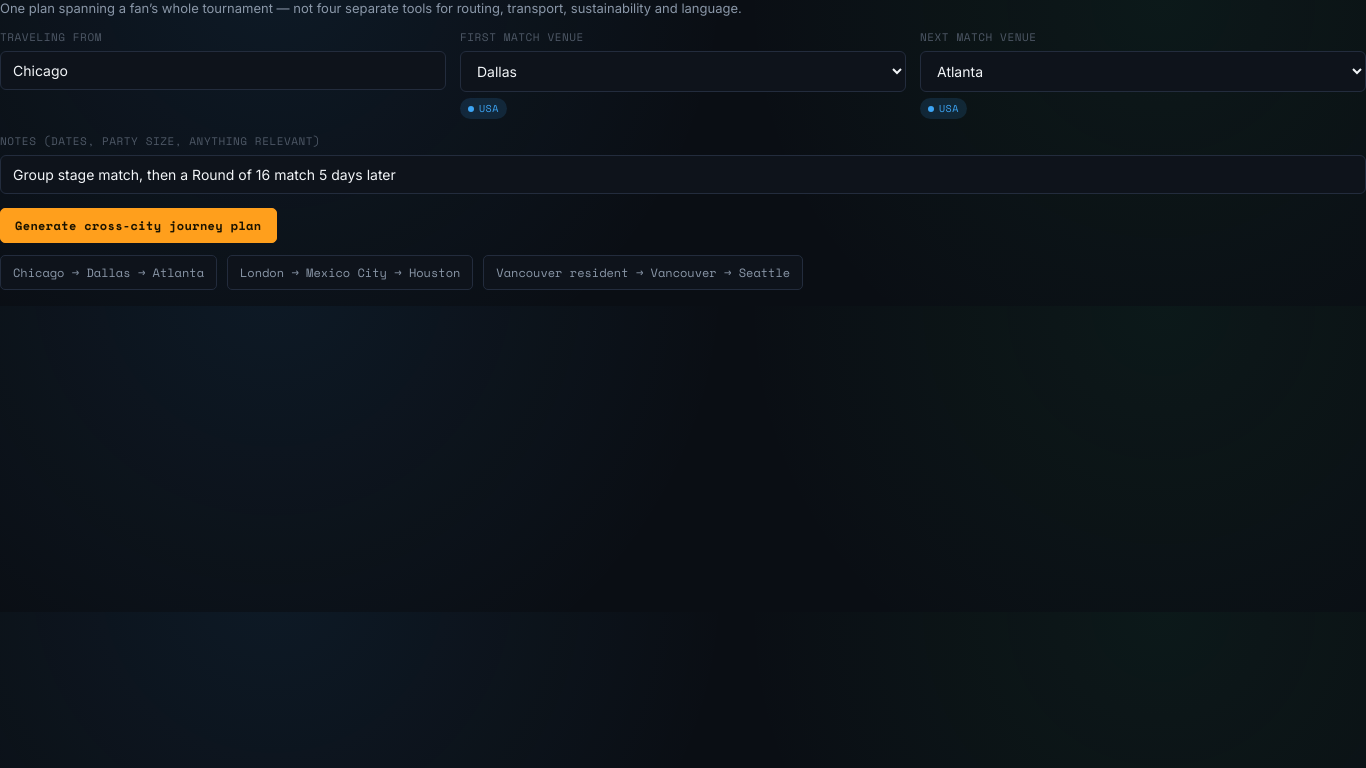
JourneyConcierge › generates a demo journey plan when the primary button is clicked
Click the button "Generate cross-city journey plan" at (138, 226), box [0, 208, 276, 243]
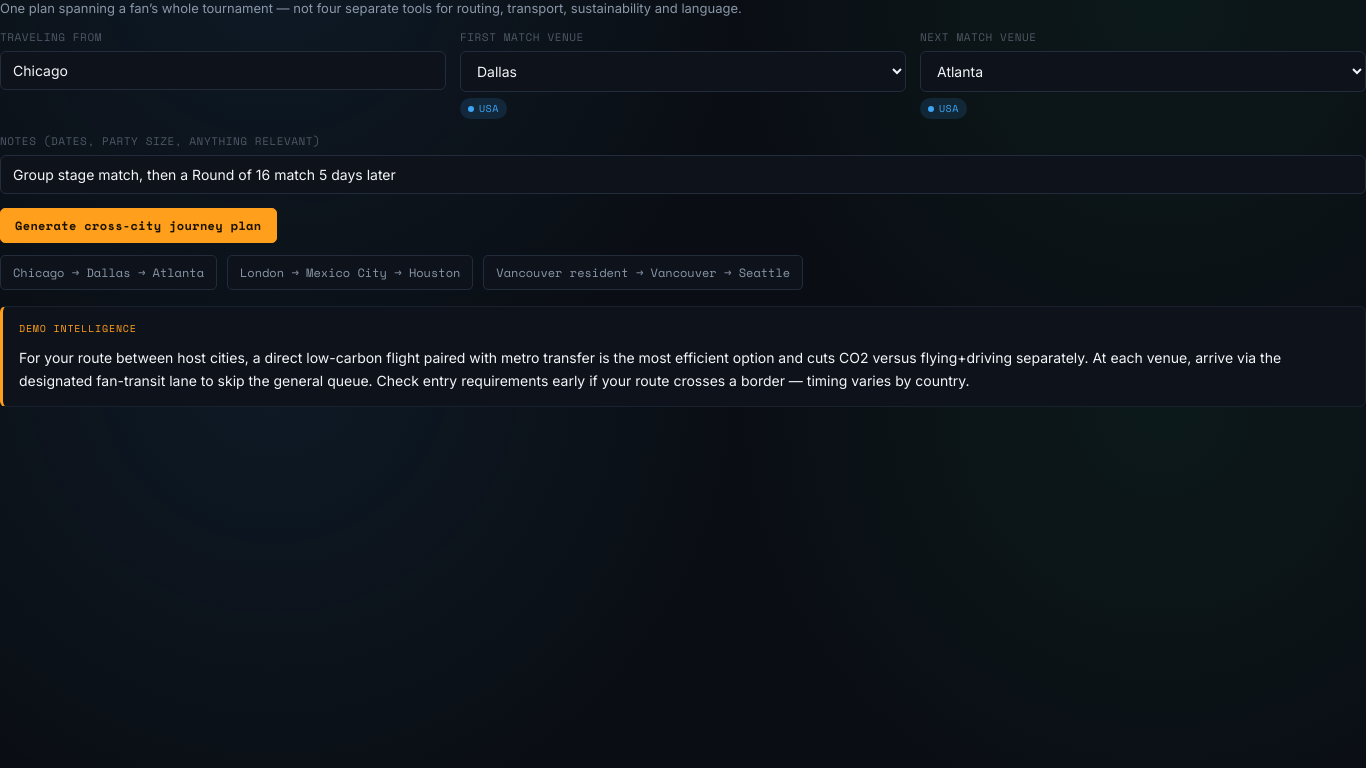
Expected: the text "Demo intelligence" is shown, [19, 321, 137, 336]
